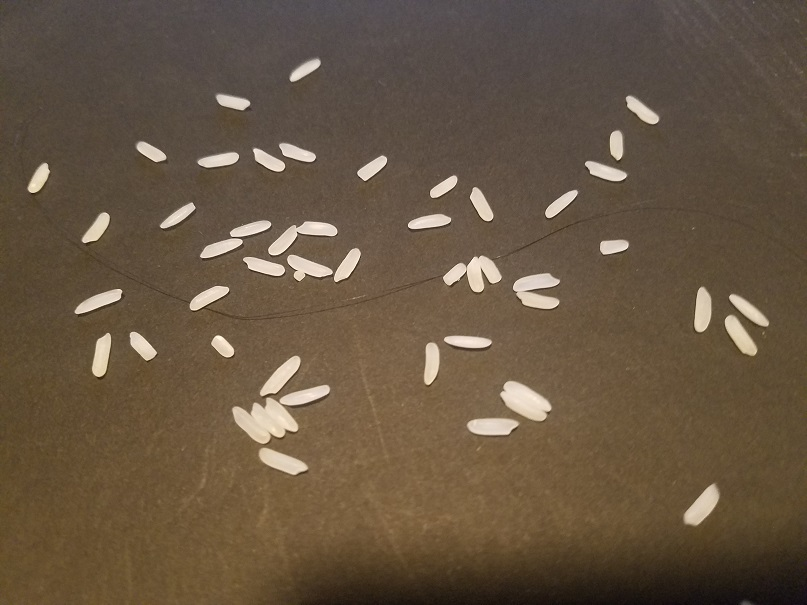egg: (259, 350, 304, 398), (682, 481, 723, 528), (229, 404, 272, 448), (722, 314, 761, 360), (498, 391, 549, 425), (255, 448, 311, 478), (501, 381, 553, 413), (247, 399, 286, 438), (72, 286, 127, 313), (188, 282, 233, 314), (728, 291, 770, 324), (622, 92, 664, 125), (286, 251, 335, 278), (264, 397, 300, 432), (277, 382, 331, 405), (468, 181, 498, 222), (543, 186, 581, 218), (269, 222, 302, 258), (124, 331, 161, 363), (159, 200, 198, 230), (333, 244, 362, 284), (198, 234, 242, 260), (278, 139, 317, 168), (584, 157, 629, 182), (355, 153, 391, 183), (512, 270, 563, 291), (25, 159, 53, 197), (81, 213, 110, 249), (91, 330, 111, 381), (242, 255, 290, 276), (286, 55, 322, 83), (465, 418, 520, 436), (423, 339, 442, 390), (293, 220, 343, 239), (465, 254, 487, 297), (516, 290, 562, 310), (226, 218, 274, 237), (252, 148, 287, 174), (196, 149, 239, 170), (135, 139, 171, 164), (694, 287, 712, 336), (428, 172, 460, 199), (409, 213, 454, 232), (478, 252, 502, 283), (443, 334, 495, 348), (440, 261, 468, 286), (598, 237, 631, 258), (218, 93, 253, 111), (209, 333, 233, 359), (609, 128, 626, 163), (292, 267, 309, 281)
